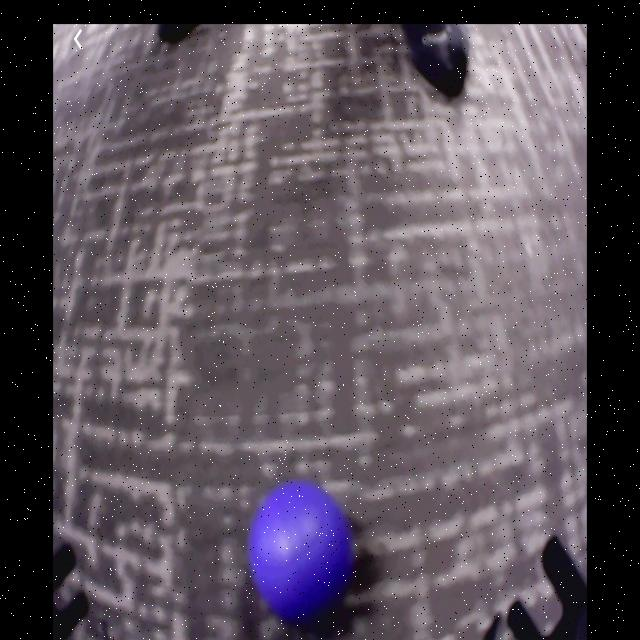ball: (254, 482, 352, 615)
